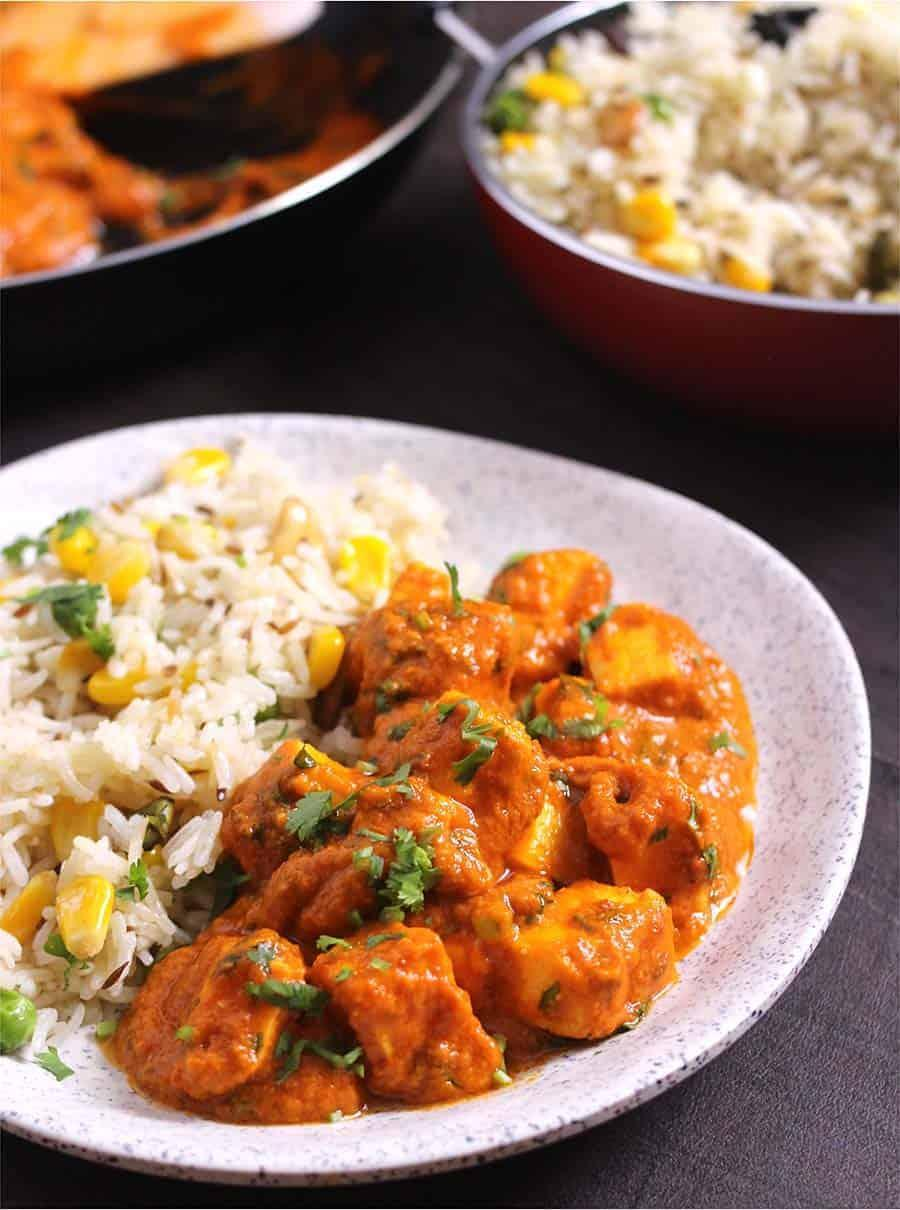paneer: (230, 558, 752, 1107)
rice: (0, 382, 316, 858), (491, 0, 900, 332)
